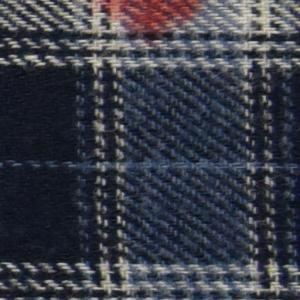Stain: (89, 1, 213, 54)
